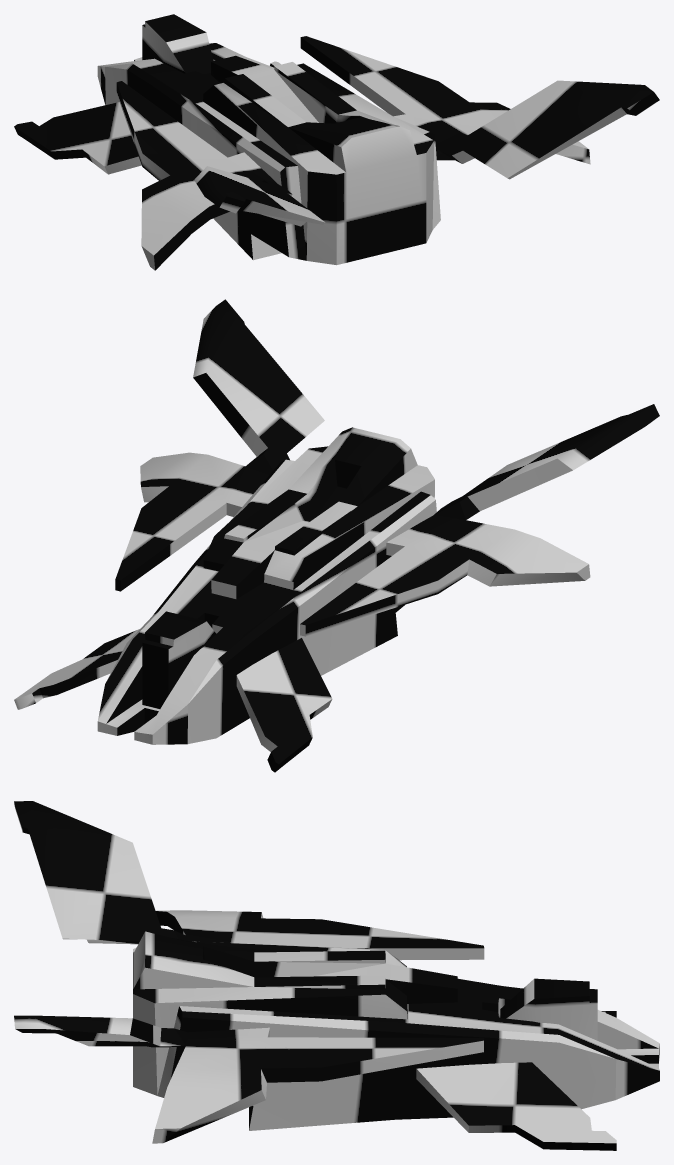
The model's file is drone_senitel.obj.
3 renders of one model, top to bottom at view 1: azimuth 30°, elevation 25°; view 2: azimuth 150°, elevation 25°; view 3: azimuth 270°, elevation 25°, orthographic. The views are drawn at different scales.
Parts seen in each view (by area): view 1: ship; view 2: ship; view 3: ship.
Part boxes in pixels (x1,y1,x2,y2): ship: (14, 14, 659, 270); ship: (14, 299, 659, 772); ship: (14, 801, 659, 1150).
Bounding box in the file's own units: 42.87 × 16.93 × 52.98.
Materials: 1 (1 with a texture image).
